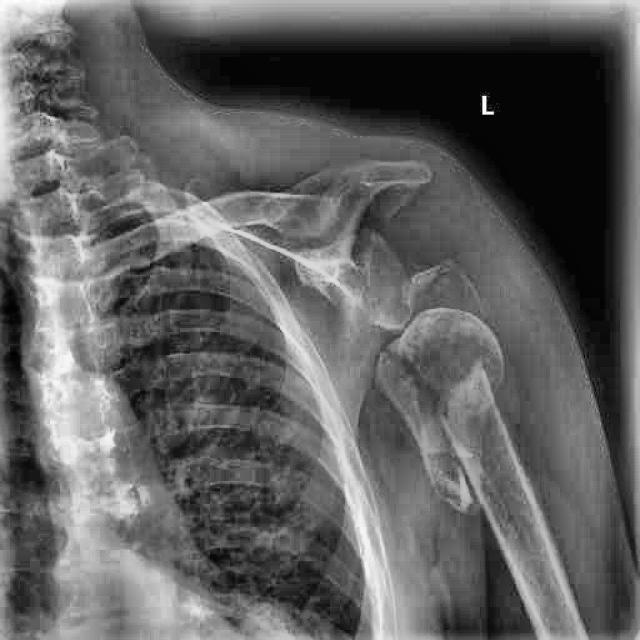shoulder fracture: (385, 324, 520, 542)
